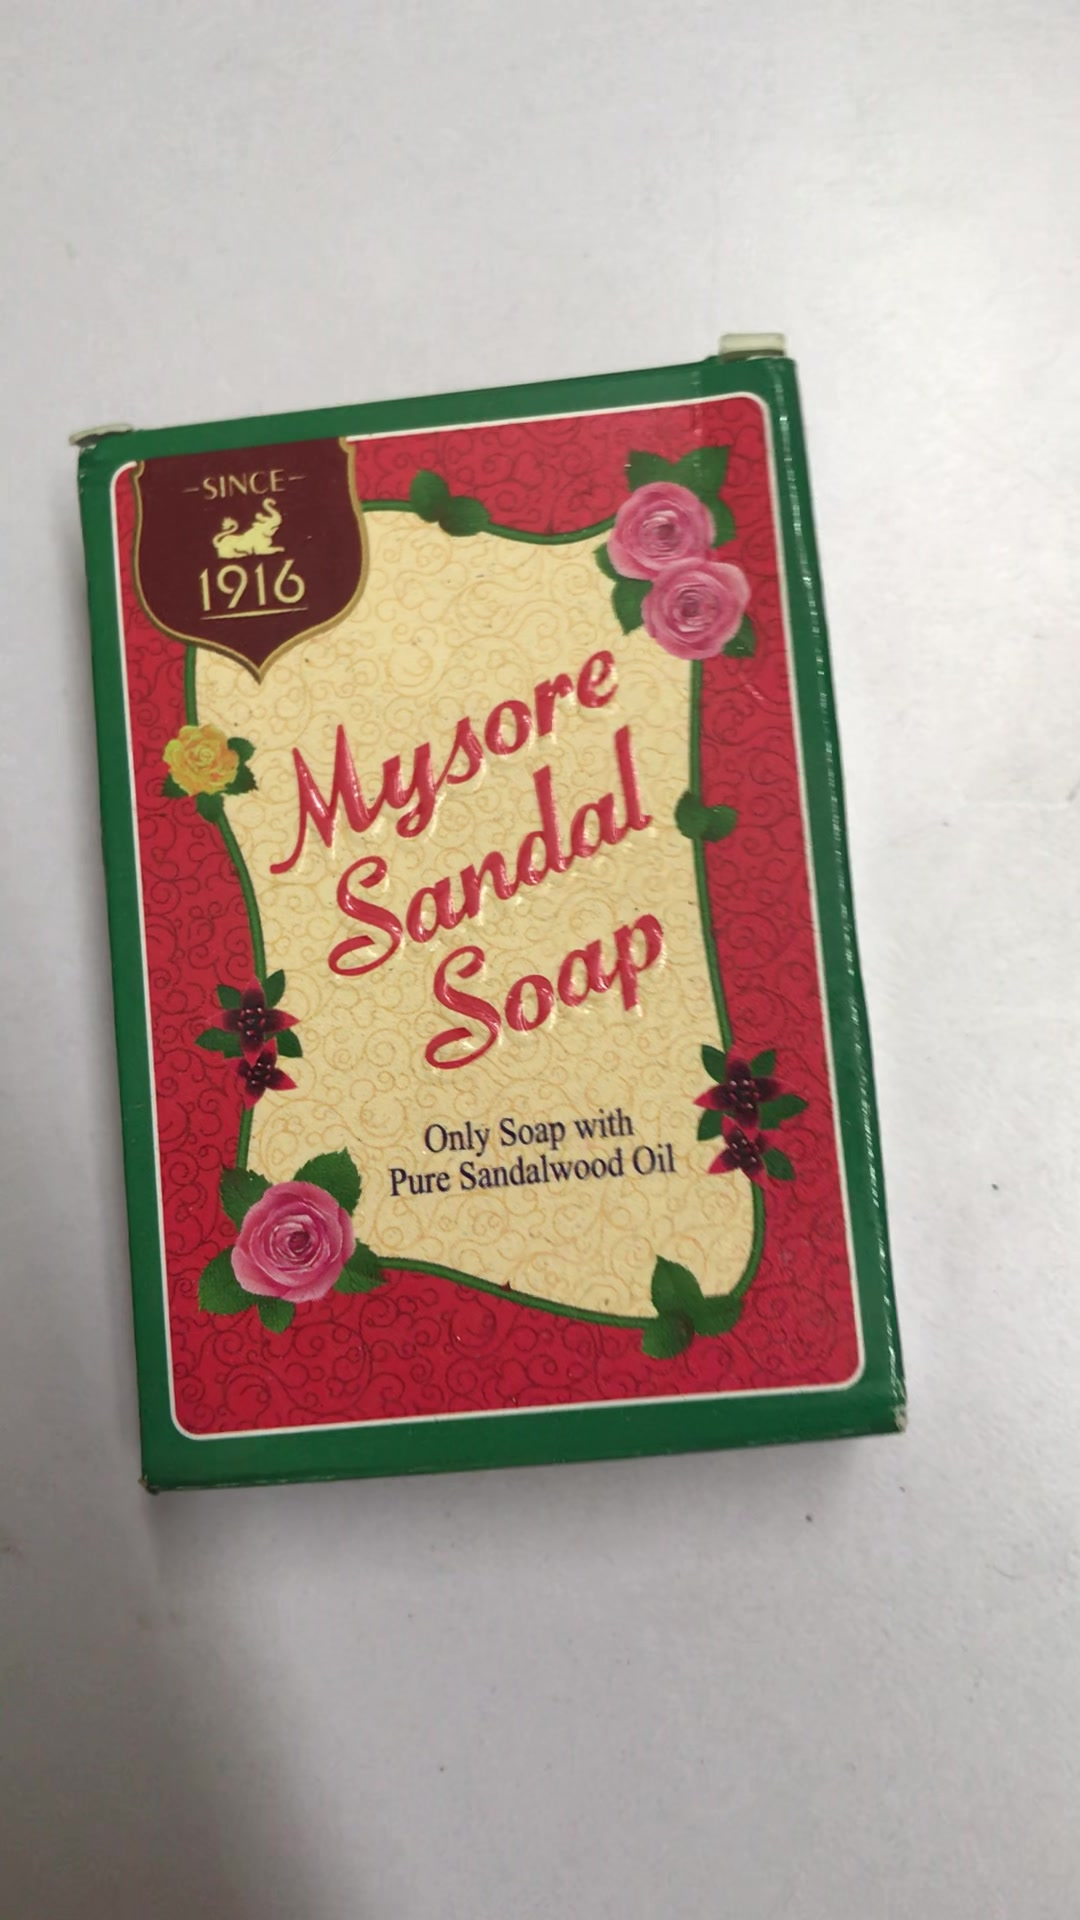mysore sandal soap: (76, 331, 907, 1487)
